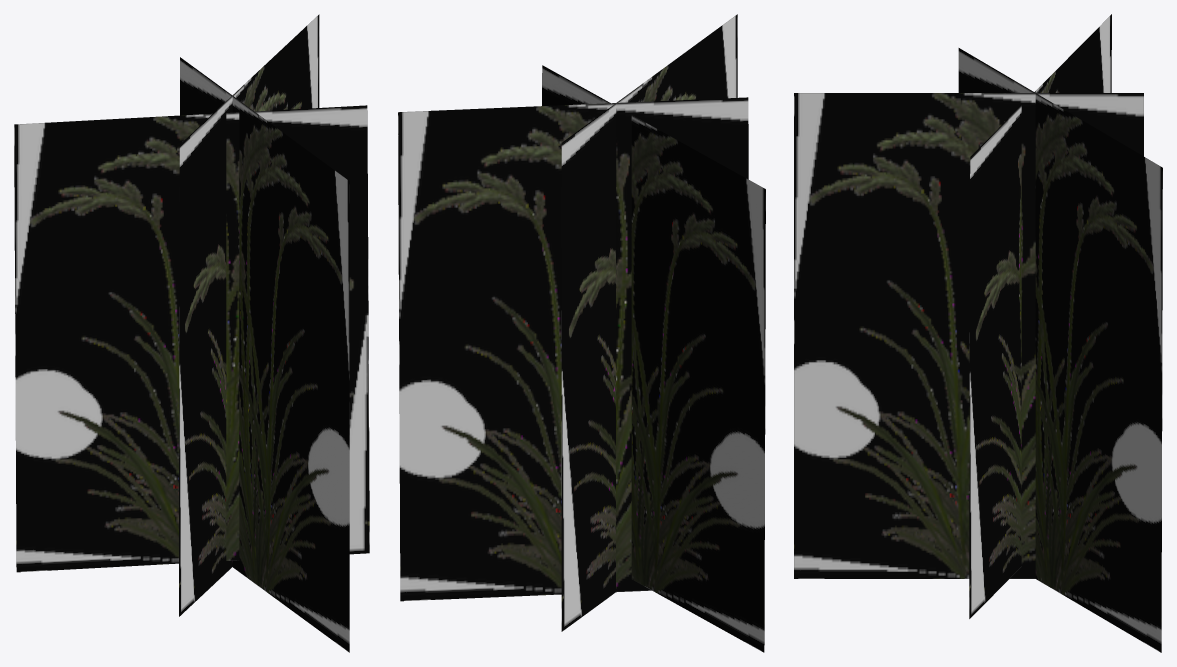
Rendered from grass_lowpoly.glb.
3 renders of one model, left to right at view 1: azimuth 30°, elevation 25°; view 2: azimuth 150°, elevation 25°; view 3: azimuth 270°, elevation 25°, orthographic. The views are drawn at different scales.
Parts seen in each view (by area): view 1: grass 10; view 2: grass 10; view 3: grass 10.
Part boxes in pixels (x1,y1,x2,y2): grass 10: (14, 14, 369, 652); grass 10: (398, 14, 765, 652); grass 10: (794, 14, 1162, 652).
Bounding box in the file's own units: 76.8 × 105 × 72.12.
1 material, 1 textured.
